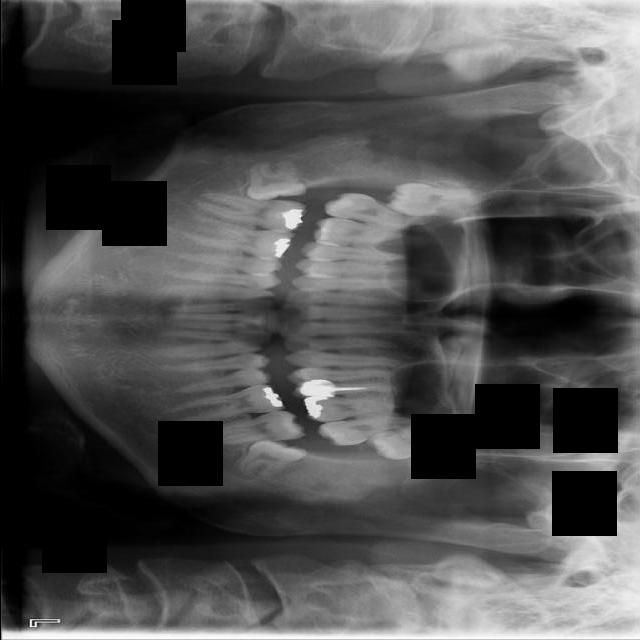3M ESPE Implant: (384, 179, 490, 223)
52: (242, 220, 295, 267), (256, 192, 308, 239), (322, 190, 382, 222), (309, 213, 358, 250), (235, 384, 287, 414), (303, 395, 350, 422), (291, 378, 338, 400)
73: (332, 383, 397, 397), (54, 614, 62, 618)
BioHorizons Implant: (315, 409, 429, 450)
BioLife Implant: (366, 431, 464, 460)
Biomet 3i Implant: (229, 420, 309, 491)
Blue Sky Bio Implant: (192, 408, 305, 448)
Caries: (321, 187, 433, 234)
Implant: (193, 190, 308, 236)
Keystone Dental Implant: (241, 155, 306, 203)
